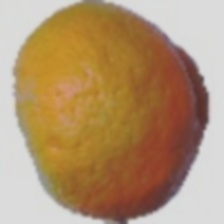tangerine: (4, 26, 189, 224)
